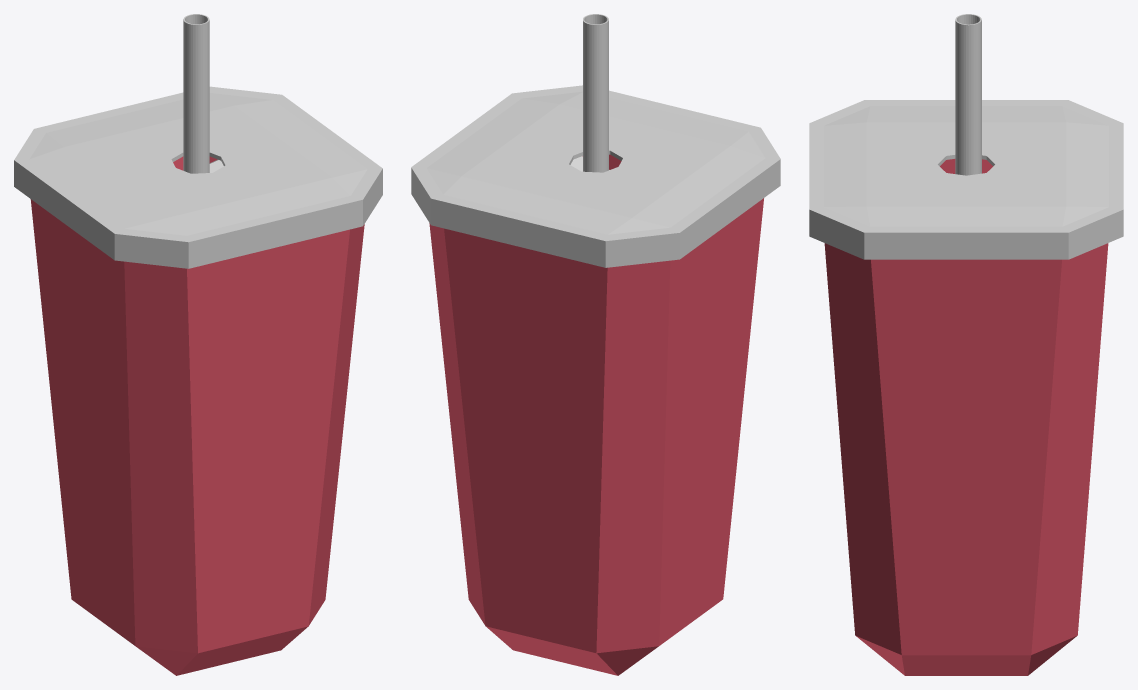
Rendered from IcedCoffee.fbx.
3 views of the same model, side by side, from view 1: azimuth 30°, elevation 25°; view 2: azimuth 150°, elevation 25°; view 3: azimuth 270°, elevation 25° (orthographic).
Visible parts, largest first — view 1: Cylinder; view 2: Cylinder; view 3: Cylinder.
Boxes of the visible parts, box(x1,y1,x2,y2) form: Cylinder: box(14, 14, 382, 675); Cylinder: box(411, 14, 780, 675); Cylinder: box(809, 14, 1123, 675).
Size of the model in its own units: 42.99 by 95.13 by 42.99.
